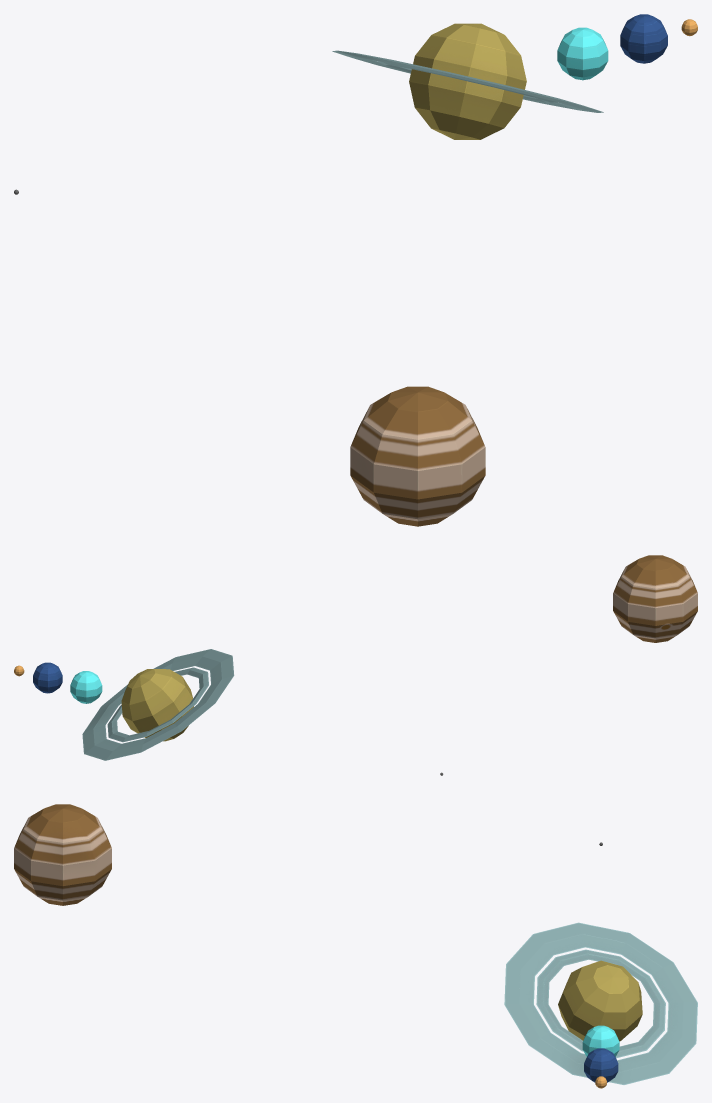
File: AuxScene (1).gltf
The picture shows the model from 3 angles, top to bottom: view 1: azimuth 30°, elevation 25°; view 2: azimuth 150°, elevation 25°; view 3: azimuth 270°, elevation 25°; orthographic projection. The views are drawn at different scales.
Parts seen in each view (by area): view 1: Node-Mesh_1, Node-Mesh; view 2: Node-Mesh_1, Node-Mesh; view 3: Node-Mesh_1, Node-Mesh.
Boxes of the visible parts, box(x1,y1,x2,y2) form: Node-Mesh_1: box(332, 14, 697, 139); Node-Mesh: box(350, 386, 485, 526); Node-Mesh_1: box(14, 649, 234, 760); Node-Mesh: box(613, 555, 697, 642); Node-Mesh_1: box(504, 922, 697, 1088); Node-Mesh: box(14, 804, 111, 905).
Size of the model in its own units: 43.73 by 7.55 by 50.6.
2 materials, 2 textured.
